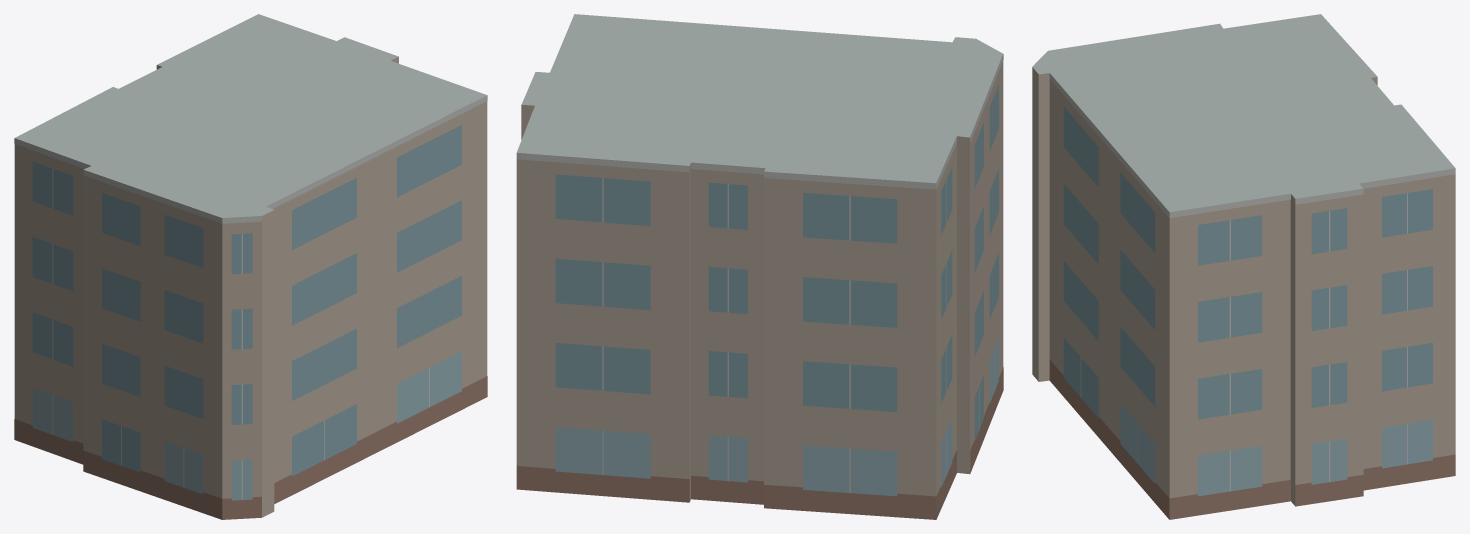
File: survey-upis-32748276.glb
The picture shows the model from 3 angles, left to right: view 1: azimuth 30°, elevation 25°; view 2: azimuth 150°, elevation 25°; view 3: azimuth 270°, elevation 25°; orthographic projection. The views are drawn at different scales.
Visible parts, largest first — view 1: survey-upis-32748276.tmp; view 2: survey-upis-32748276.tmp; view 3: survey-upis-32748276.tmp.
Boxes of the visible parts, x1,y1,x2,y2 form: survey-upis-32748276.tmp: [14, 14, 487, 519]; survey-upis-32748276.tmp: [516, 14, 1003, 519]; survey-upis-32748276.tmp: [1032, 14, 1455, 519].
Bounding box in the file's own units: 17.71 × 12.8 × 15.98.
